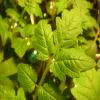Tomato leaf: (49, 49, 97, 81), (54, 8, 83, 51), (32, 18, 56, 65), (15, 61, 40, 90), (38, 81, 67, 99), (11, 37, 30, 58), (24, 1, 44, 18), (20, 21, 38, 38)
